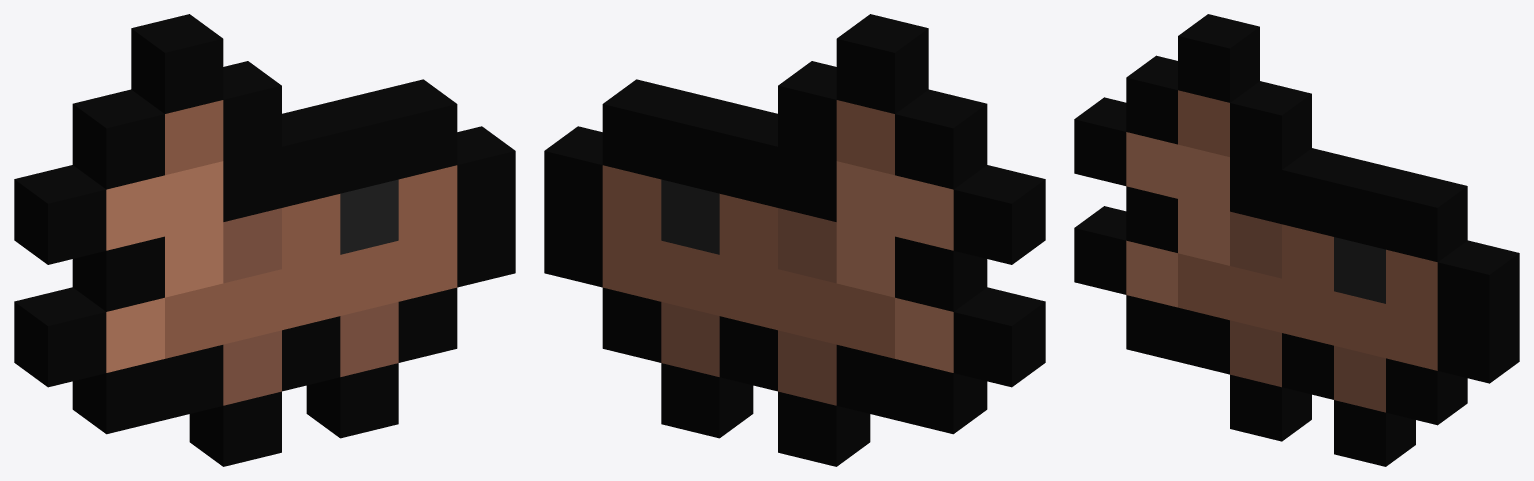
Rendered from Volcanic Semperi.glb.
The picture shows the model from 3 angles, left to right: view 1: azimuth 30°, elevation 25°; view 2: azimuth 150°, elevation 25°; view 3: azimuth 330°, elevation 25°; orthographic projection. The views are drawn at different scales.
Visible parts, largest first — view 1: generated(Clone); view 2: generated(Clone); view 3: generated(Clone).
Part boxes in pixels (x1,y1,x2,y2): generated(Clone): [14, 14, 515, 466]; generated(Clone): [544, 14, 1045, 466]; generated(Clone): [1074, 14, 1519, 466].
Bounding box in the file's own units: 8 × 7 × 1.
Materials: 1 (1 with a texture image).
